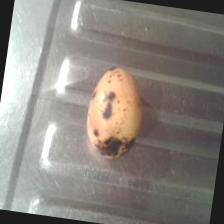Mango Overripe: (79, 58, 153, 166)
